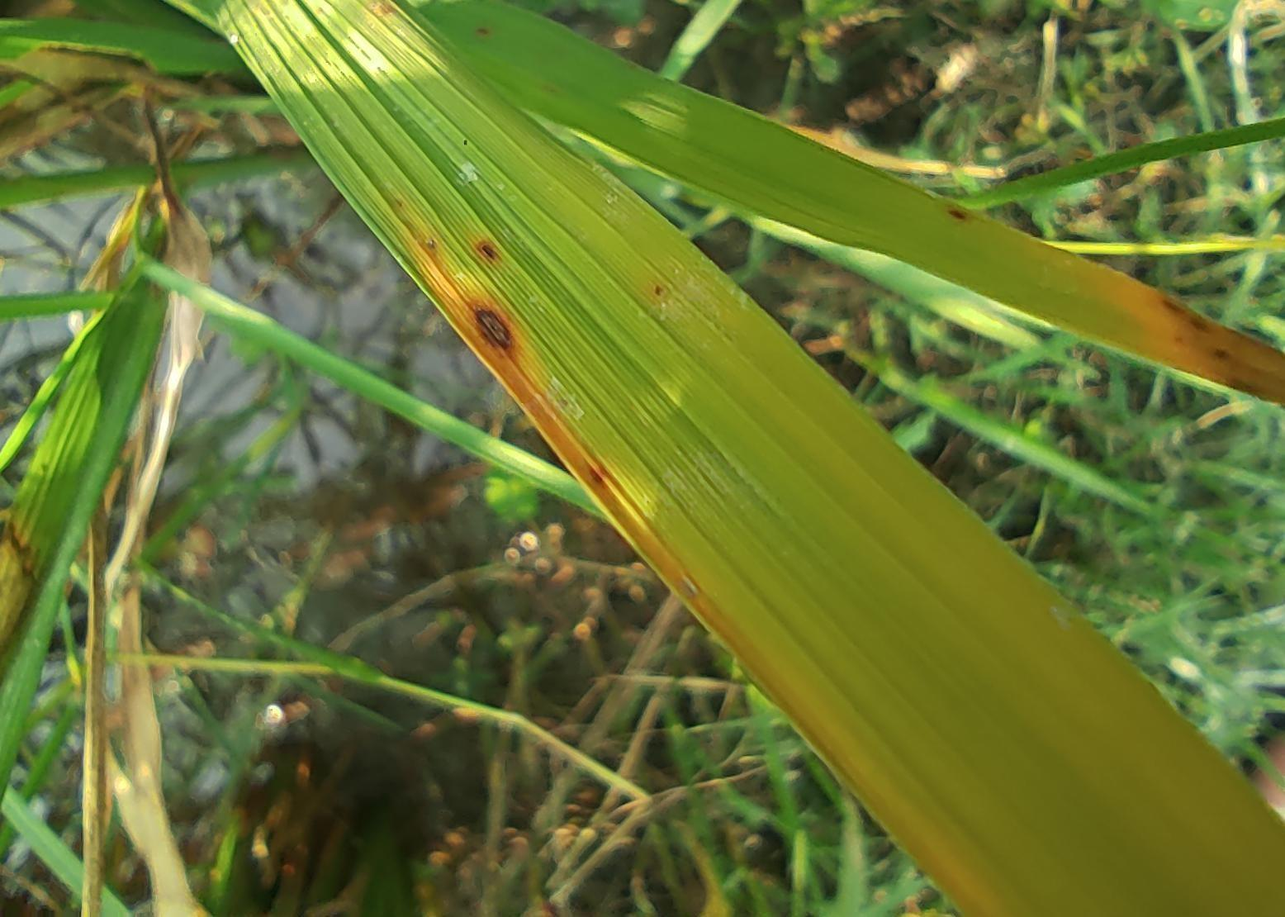LEAF: (199, 0, 1284, 916)
LEAF BLAST: (475, 310, 511, 349)
